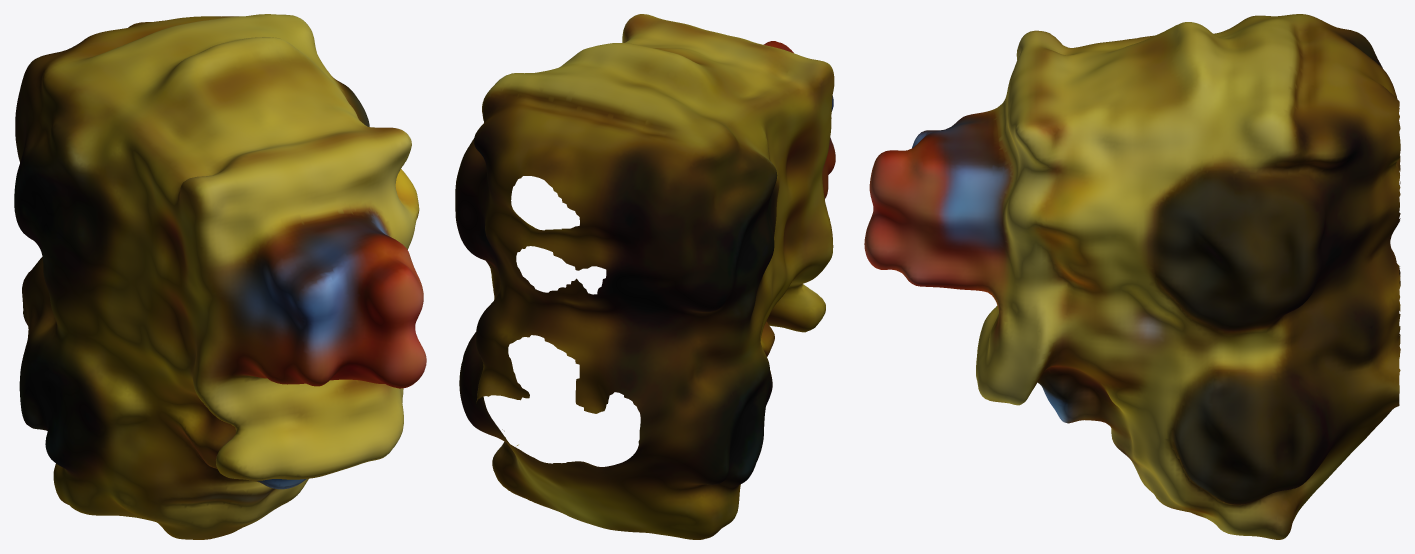
Rendered from school_bus2.glb.
The picture shows the model from 3 angles, left to right: view 1: azimuth 30°, elevation 25°; view 2: azimuth 150°, elevation 25°; view 3: azimuth 270°, elevation 25°; orthographic projection. The views are drawn at different scales.
Size of the model in its own units: 0.646 by 0.9814 by 0.9999.
